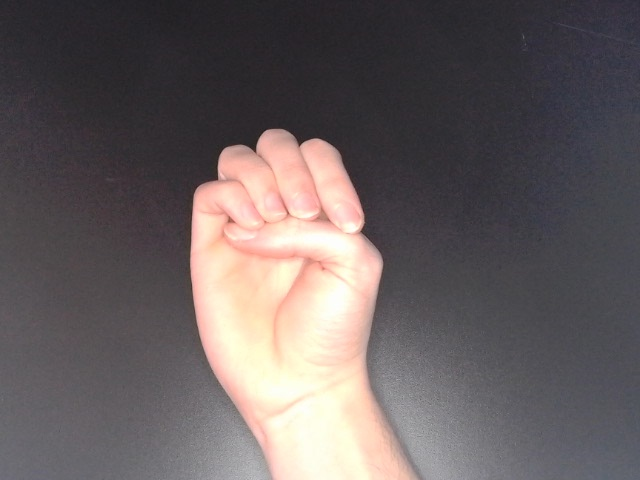e: (183, 125, 388, 435)
